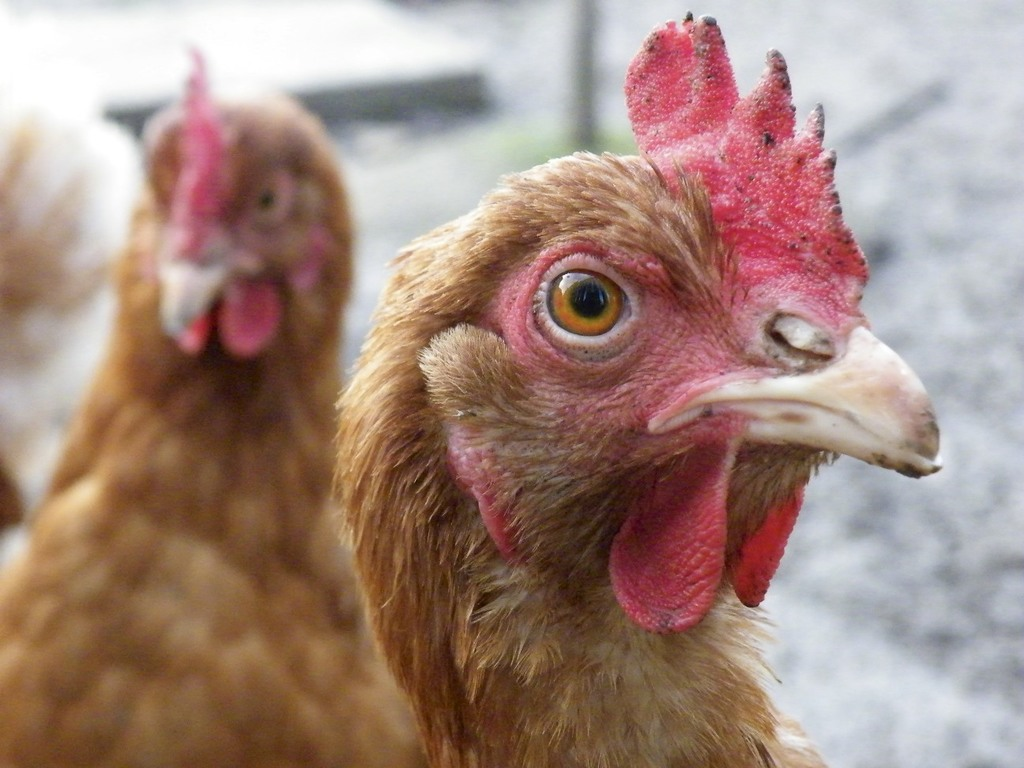chicken: (326, 7, 958, 768)
